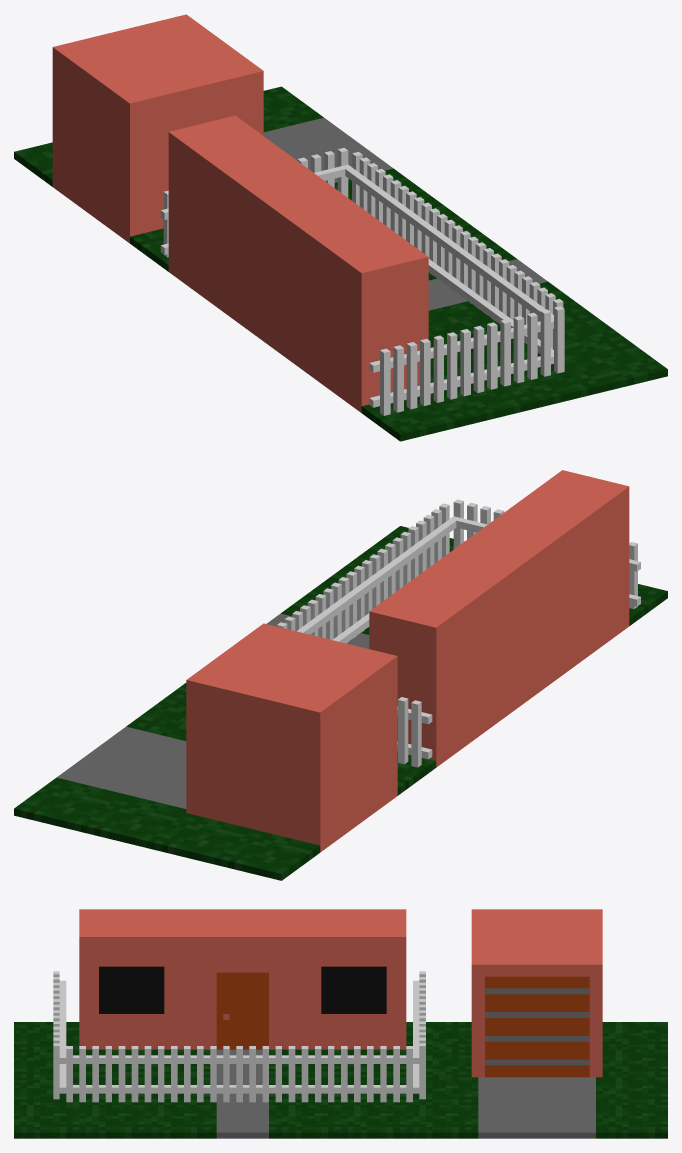
Rendered from house_salmon.fbx.
3 views of the same model, one above another, from view 1: azimuth 30°, elevation 25°; view 2: azimuth 150°, elevation 25°; view 3: azimuth 270°, elevation 25° (orthographic). The views are drawn at different scales.
Visible parts, largest first — view 1: Union; view 2: Union; view 3: Union.
Part boxes in pixels (x1,y1,x2,y2): Union: (14,14,667,441); Union: (14,470,667,880); Union: (14,909,667,1138).
Size of the model in its own units: 40 by 20 by 100.
